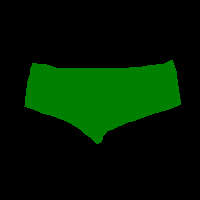mutande: (24, 59, 181, 144)
